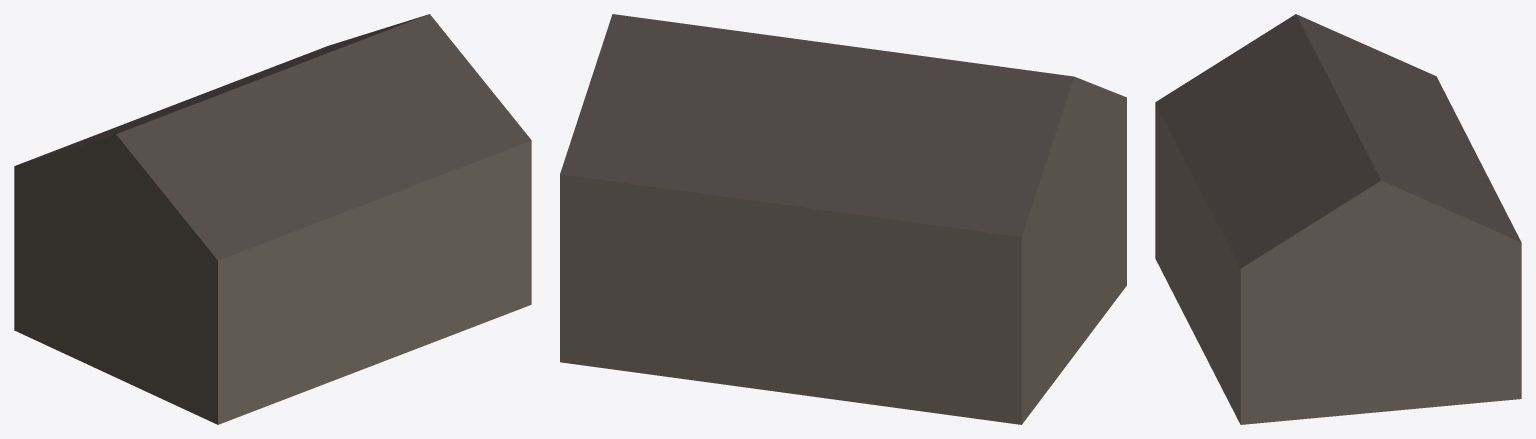
The picture shows the model from 3 angles, left to right: view 1: azimuth 30°, elevation 25°; view 2: azimuth 150°, elevation 25°; view 3: azimuth 270°, elevation 25°; orthographic projection. The views are drawn at different scales.
Parts seen in each view (by area): view 1: HP-w859467733; view 2: HP-w859467733; view 3: HP-w859467733.
Part boxes in pixels (<box>): HP-w859467733: <box>14,14,531,424</box>; HP-w859467733: <box>560,14,1126,424</box>; HP-w859467733: <box>1155,14,1521,424</box>.
Bounding box in the file's own units: 23.78 × 13.34 × 19.14.
